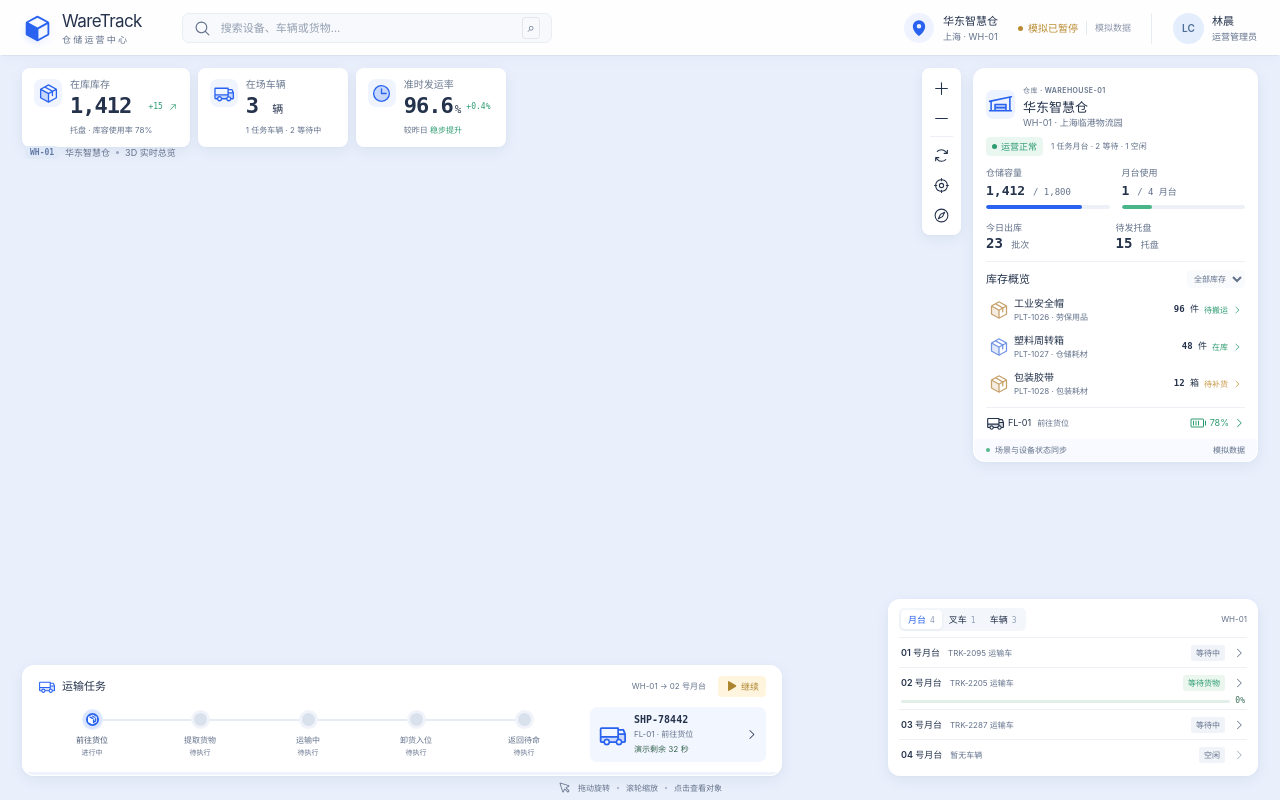
Scenario: starts paused for reduced motion but permits explicit playback
Click the button with aria-label "继续模拟". click: (742, 686)
box: [718,676,766,697]
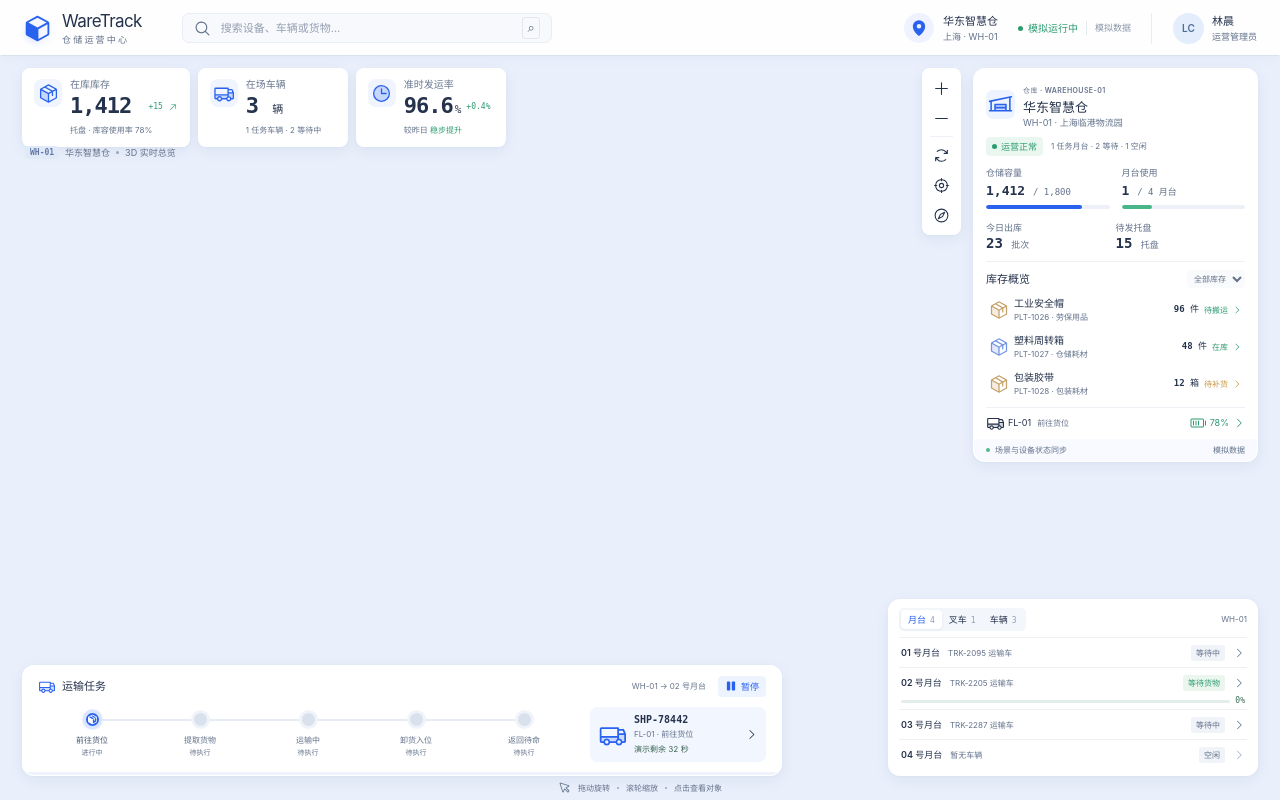
Check: the button with aria-label "暂停模拟" is shown, box [718,676,766,697]
